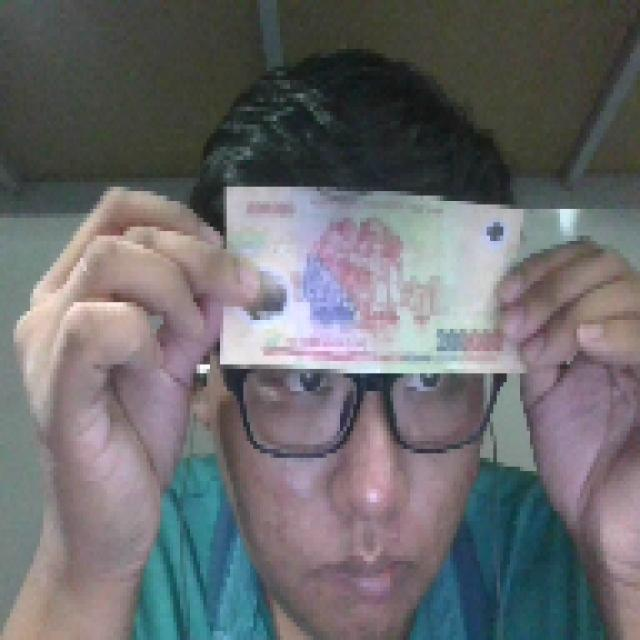200 000 VND: (216, 178, 530, 373)
